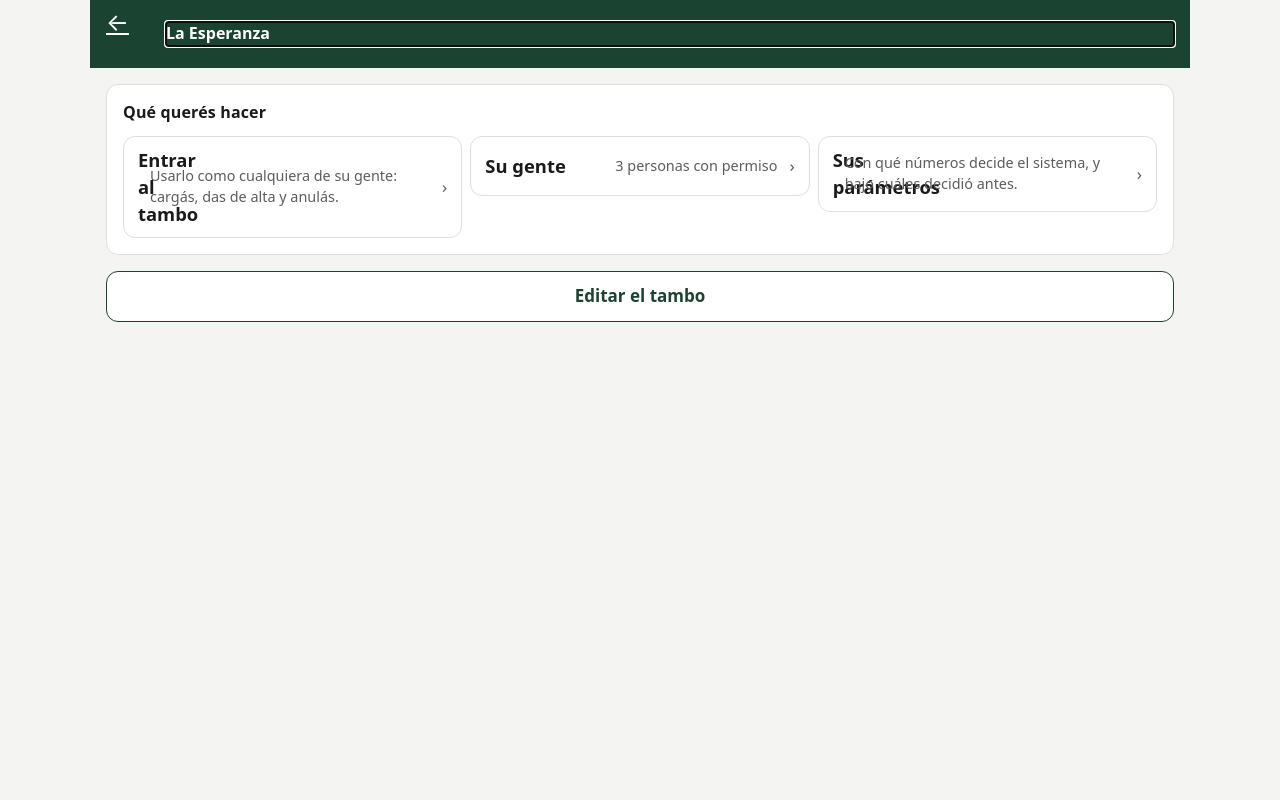
it: entrar al tambo y volver › vuelve al panel sin cerrar la sesión
Click the button named "Entrar al tambo".
click(293, 187)  # box [123,136,462,238]
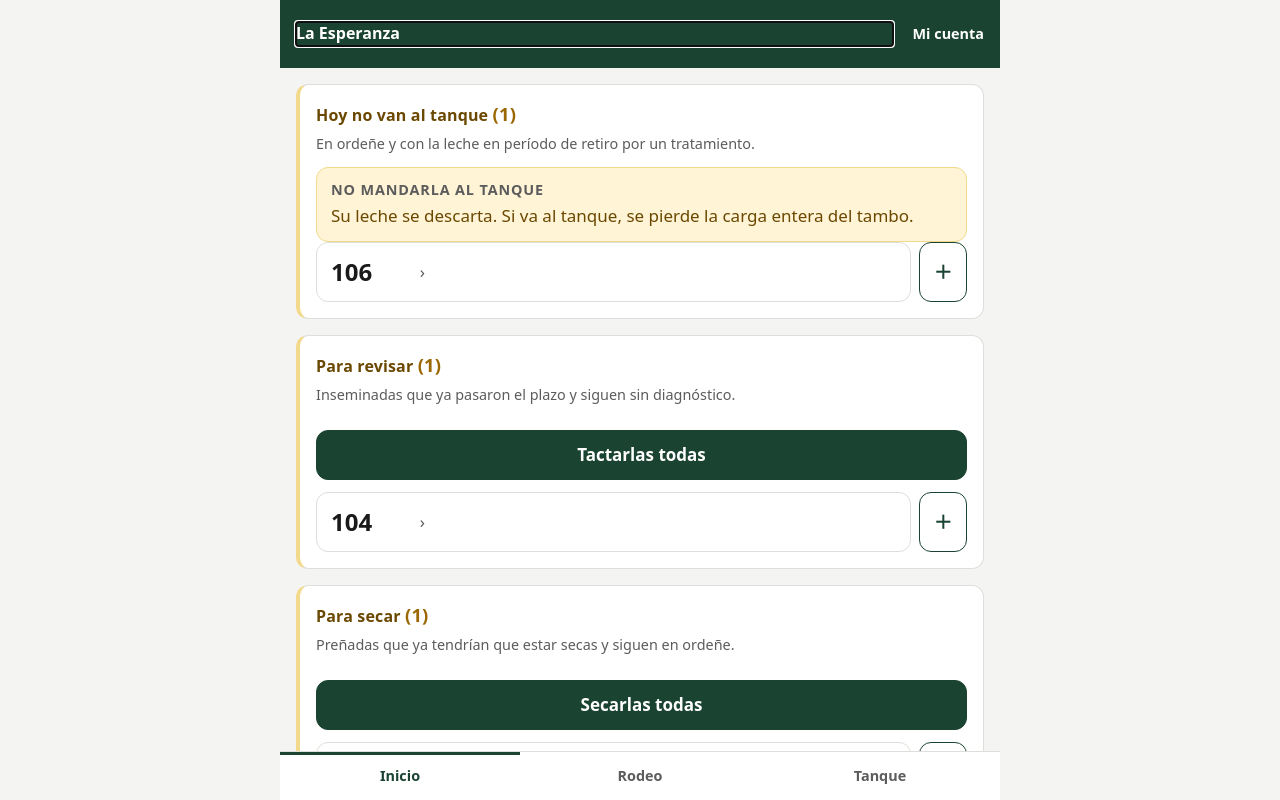
Click the link "Mi cuenta".
click(948, 33)  # box [912,24,984,43]
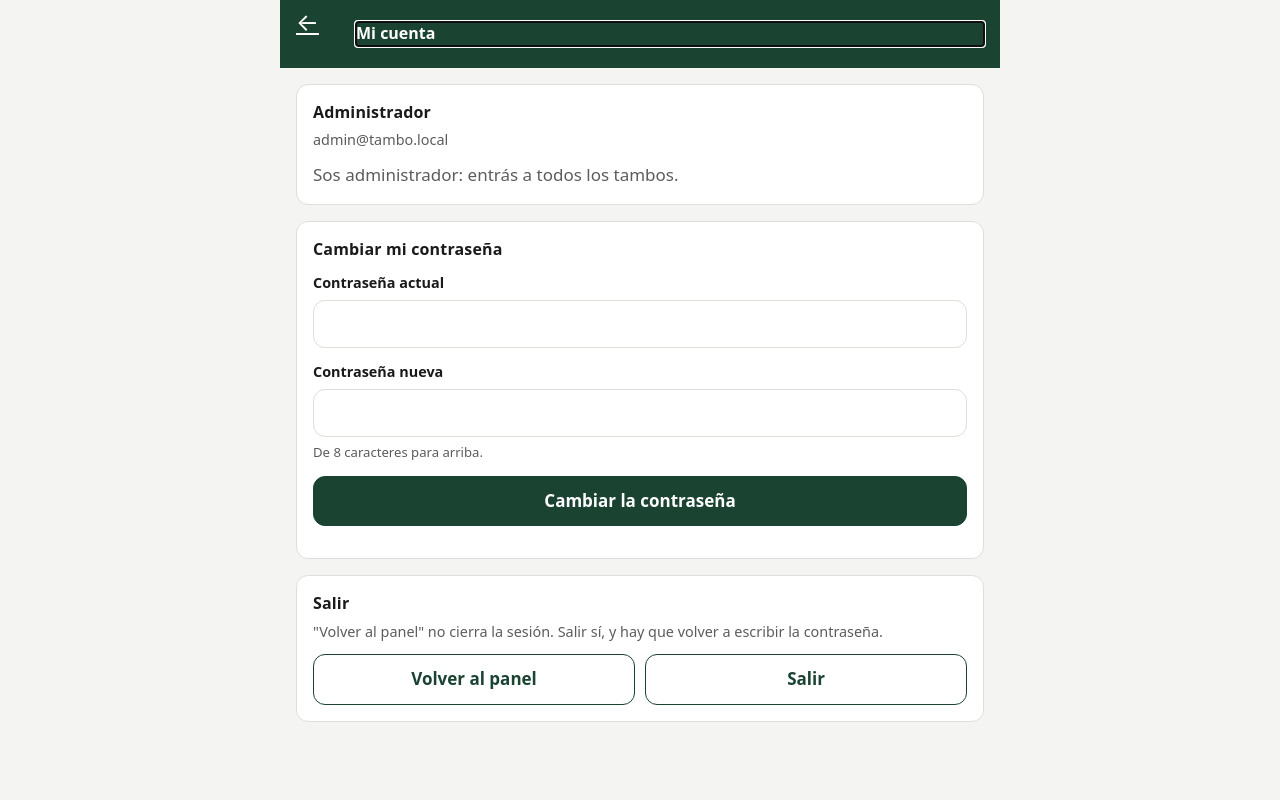
Click the button "Volver al panel".
click(474, 680)  # box [313,654,635,705]
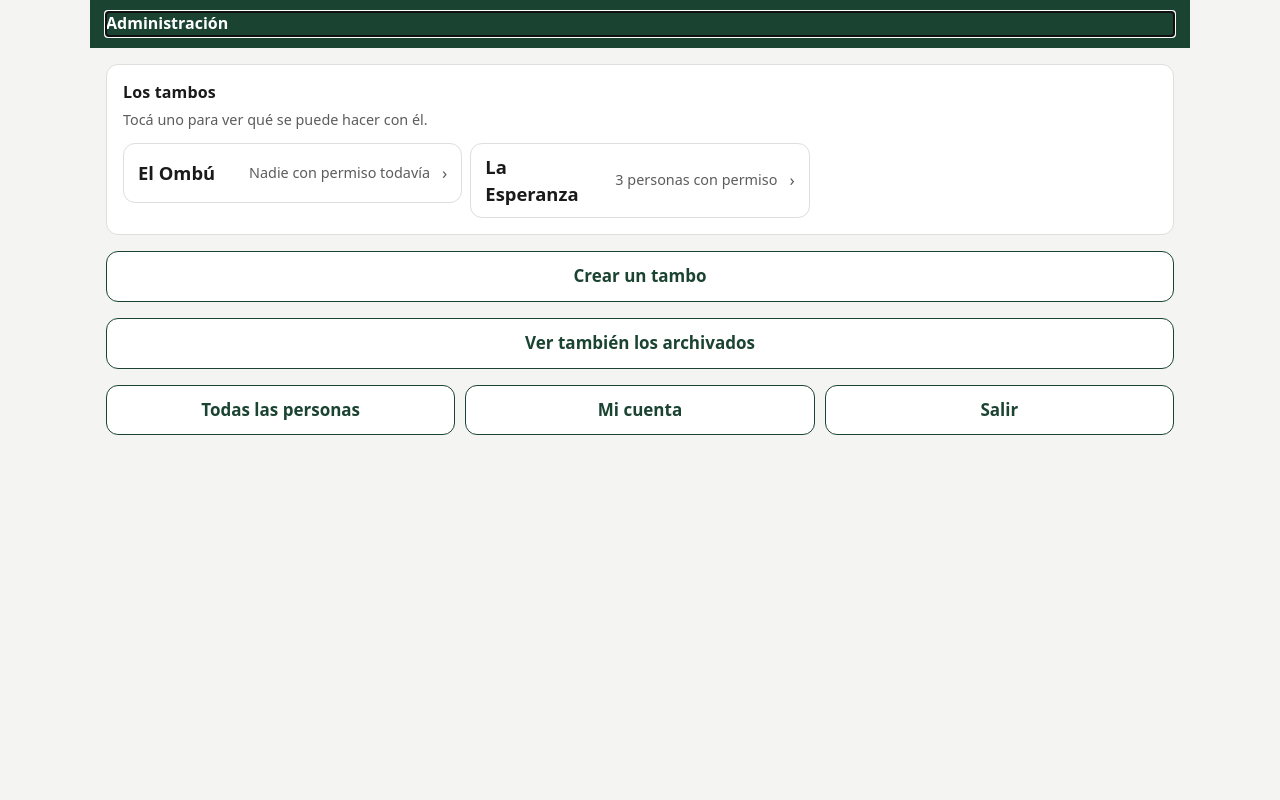
Check: the heading "Administración" is shown, box [106,12,228,34]
